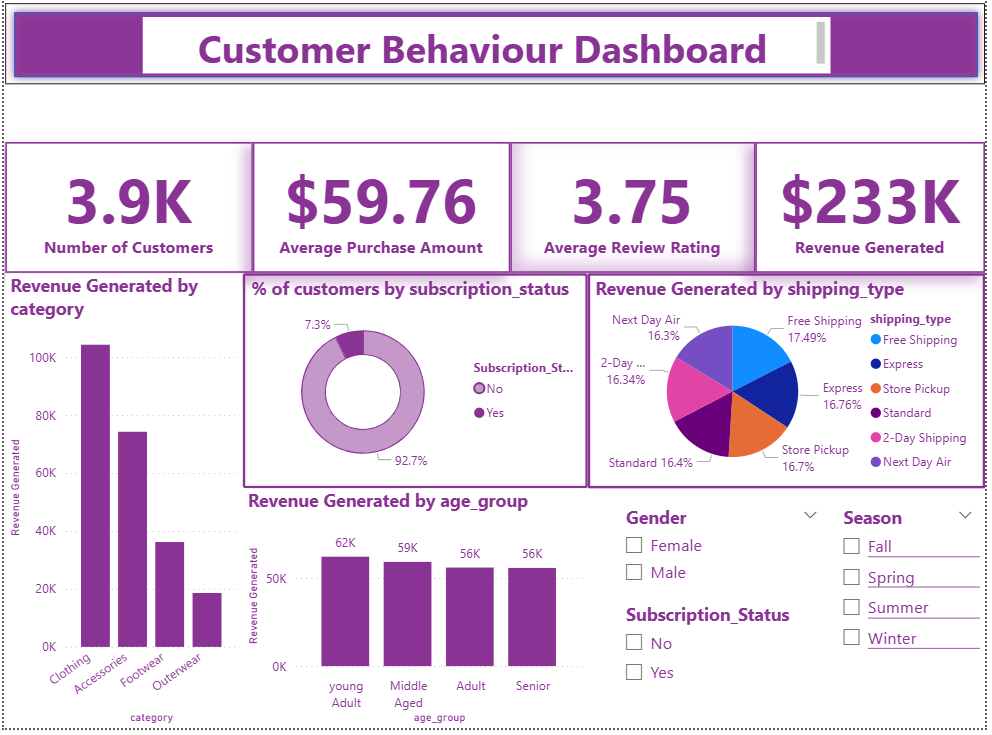

The dashboard page shown, as its layout file describes it:
{"tool":"powerbi","page":{"name":"Dashboard","canvas":[960,720],"ordinal":0},"visuals":[{"type":"card","fields":{"Values":["customer_shopping.Number of customers"]},"box":[1.2,146.7,242.1,128.4],"z":0},{"type":"card","fields":{"Values":["customer_shopping.Average Purchase Amount"]},"box":[243.3,146.7,251.9,128.4],"z":1000},{"type":"card","fields":{"Values":["customer_shopping.Average Review rating"]},"box":[495.2,146.7,239.7,128.4],"z":2000},{"type":"donutChart","title":" % of customers by subscription_status","fields":{"Category":["customer_shopping.subscription_status"],"Y":["Sum(customer_shopping.customer_id)"]},"box":[233.6,275.1,337.5,210.3],"z":3000},{"type":"shape","box":[1.2,11,958.7,79.5],"z":4000},{"type":"textbox","box":[135.7,24.5,672.6,55],"z":5000},{"type":"columnChart","fields":{"Category":["customer_shopping.category"],"Y":["customer_shopping.Revenue generated"]},"box":[1.2,275.1,232.3,445.1],"z":6000},{"type":"pieChart","fields":{"Category":["customer_shopping.shipping_type"],"Y":["customer_shopping.Revenue generated"]},"box":[571.1,275.1,388.9,210.3],"z":8000},{"type":"slicer","fields":{"Values":["customer_shopping.gender"]},"box":[595.5,497.7,212.8,96.6],"z":9000},{"type":"clusteredColumnChart","fields":{"Category":["customer_shopping.age_group"],"Y":["customer_shopping.Revenue generated"]},"box":[234,485,338,235],"z":10000},{"type":"slicer","fields":{"Values":["customer_shopping.subscription_status"]},"box":[595.5,591.9,212.8,96.6],"z":11000},{"type":"card","fields":{"Values":["customer_shopping.Revenue generated"]},"box":[734.9,146.7,225,128.4],"z":11001},{"type":"slicer","fields":{"Values":["customer_shopping.season"]},"box":[808.3,497.7,151.6,178.5],"z":11002}]}

Visuals, with their boxes in screenshot pixels (x1, y1, x2, y2), scaled from the page's 960x720 canvas onto the 992x735 screenshot:
card - customer_shopping.Number of customers: x1=1 y1=150 x2=251 y2=281
card - customer_shopping.Average Purchase Amount: x1=251 y1=150 x2=512 y2=281
card - customer_shopping.Average Review rating: x1=512 y1=150 x2=759 y2=281
" % of customers by subscription_status" donutChart: x1=241 y1=281 x2=590 y2=496
shape: x1=1 y1=11 x2=991 y2=92
textbox: x1=140 y1=25 x2=835 y2=81
columnChart - customer_shopping.category x customer_shopping.Revenue generated: x1=1 y1=281 x2=241 y2=734
pieChart - customer_shopping.shipping_type x customer_shopping.Revenue generated: x1=590 y1=281 x2=991 y2=496
slicer - customer_shopping.gender: x1=615 y1=508 x2=835 y2=607
clusteredColumnChart - customer_shopping.age_group x customer_shopping.Revenue generated: x1=242 y1=495 x2=591 y2=734
slicer - customer_shopping.subscription_status: x1=615 y1=604 x2=835 y2=703
card - customer_shopping.Revenue generated: x1=759 y1=150 x2=991 y2=281
slicer - customer_shopping.season: x1=835 y1=508 x2=991 y2=690
